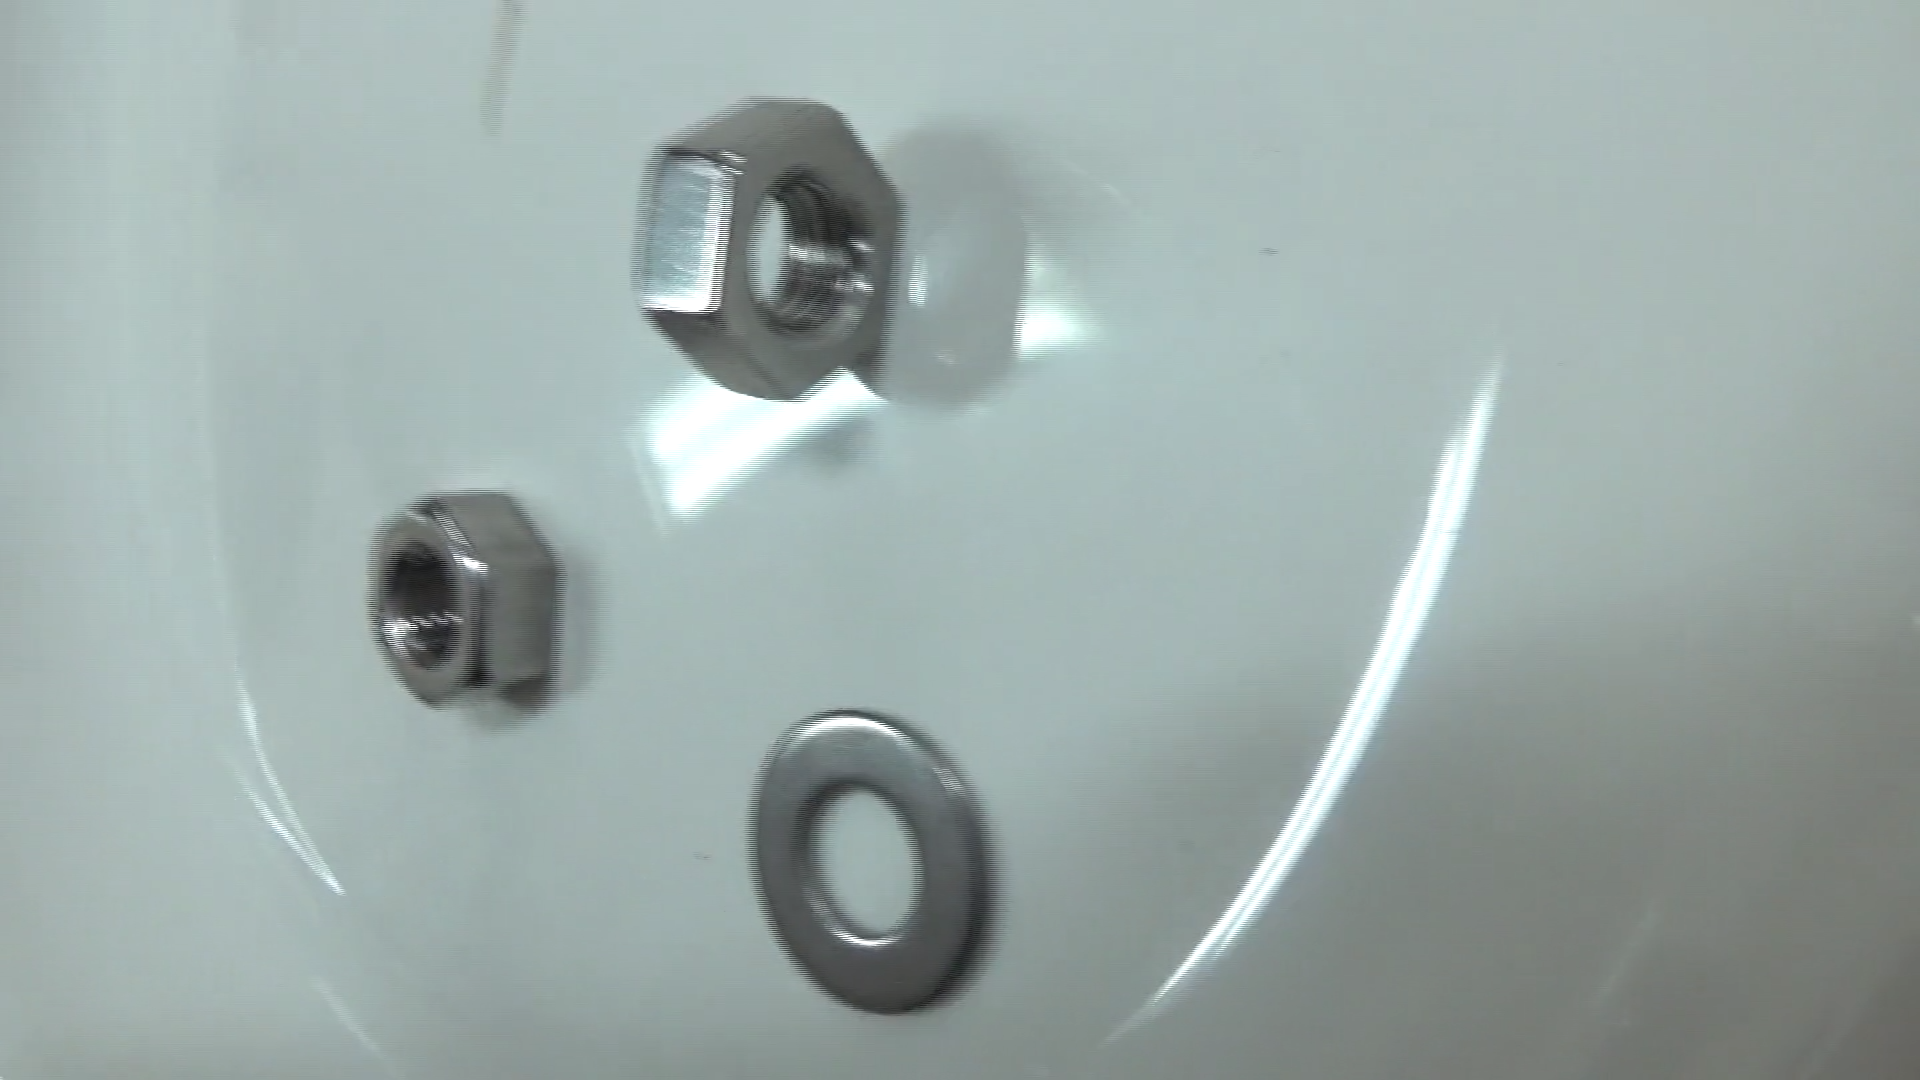nut: (597, 69, 935, 421), (334, 462, 579, 729)
washer: (708, 682, 1011, 1022)
